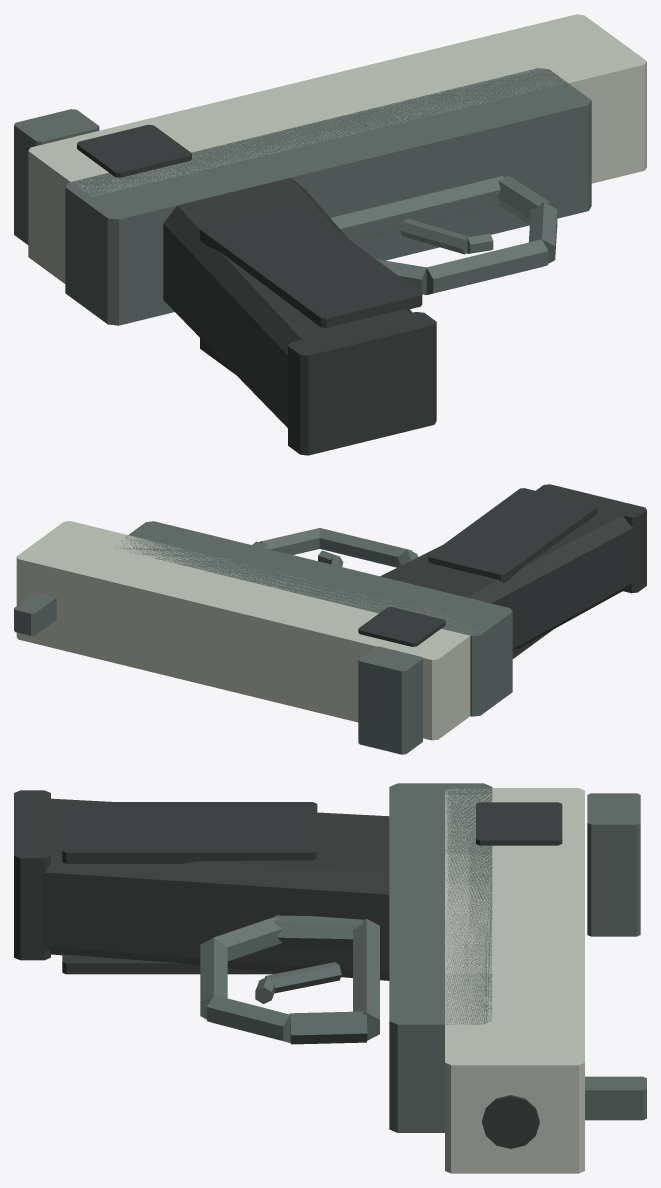
File: weapon-walther-ppks.glb
The picture shows the model from 3 angles, top to bottom: view 1: azimuth 30°, elevation 25°; view 2: azimuth 150°, elevation 25°; view 3: azimuth 270°, elevation 25°; orthographic projection. The views are drawn at different scales.
Visible parts, largest first — view 1: weapon-walther-ppks/lower-frame, weapon-walther-ppks/flat-slide, weapon-walther-ppks/eight-sided-grip, weapon-walther-ppks/eight-sided-grip-heel, weapon-walther-ppks/independent-grip-panels-left, weapon-walther-ppks/hollow-trigger-guard-1, weapon-walther-ppks/slide-rear-serrations-left, weapon-walther-ppks/rear-sight, weapon-walther-ppks/hollow-trigger-guard-4, weapon-walther-ppks/hollow-trigger-guard-2, weapon-walther-ppks/hollow-trigger-guard-trigger-1, weapon-walther-ppks/hollow-trigger-guard-3 (+1 smaller); view 2: weapon-walther-ppks/flat-slide, weapon-walther-ppks/lower-frame, weapon-walther-ppks/eight-sided-grip, weapon-walther-ppks/independent-grip-panels-left, weapon-walther-ppks/rear-sight, weapon-walther-ppks/slide-rear-serrations-left, weapon-walther-ppks/eight-sided-grip-heel, weapon-walther-ppks/hollow-trigger-guard-4, weapon-walther-ppks/front-sight, weapon-walther-ppks/hollow-trigger-guard-3; view 3: weapon-walther-ppks/flat-slide, weapon-walther-ppks/eight-sided-grip, weapon-walther-ppks/lower-frame, weapon-walther-ppks/independent-grip-panels-left, weapon-walther-ppks/rear-sight, weapon-walther-ppks/eight-sided-grip-heel, weapon-walther-ppks/slide-rear-serrations-left, weapon-walther-ppks/front-sight, weapon-walther-ppks/hollow-trigger-guard-1, weapon-walther-ppks/hollow-trigger-guard-2, weapon-walther-ppks/hollow-trigger-guard-6, weapon-walther-ppks/muzzle-dark-disc (+5 smaller).
Boxes of the visible parts, left/top/right/bottom form: weapon-walther-ppks/lower-frame: left=65, top=68, right=591, bottom=325; weapon-walther-ppks/flat-slide: left=28, top=14, right=646, bottom=283; weapon-walther-ppks/eight-sided-grip: left=163, top=178, right=415, bottom=427; weapon-walther-ppks/eight-sided-grip-heel: left=288, top=312, right=436, bottom=455; weapon-walther-ppks/independent-grip-panels-left: left=200, top=204, right=422, bottom=327; weapon-walther-ppks/hollow-trigger-guard-1: left=330, top=176, right=504, bottom=240; weapon-walther-ppks/slide-rear-serrations-left: left=77, top=124, right=191, bottom=177; weapon-walther-ppks/rear-sight: left=14, top=109, right=99, bottom=244; weapon-walther-ppks/hollow-trigger-guard-4: left=426, top=239, right=548, bottom=294; weapon-walther-ppks/hollow-trigger-guard-2: left=497, top=176, right=552, bottom=224; weapon-walther-ppks/hollow-trigger-guard-trigger-1: left=400, top=218, right=469, bottom=254; weapon-walther-ppks/hollow-trigger-guard-3: left=529, top=202, right=557, bottom=263; weapon-walther-ppks/flat-slide: left=16, top=521, right=472, bottom=740; weapon-walther-ppks/lower-frame: left=116, top=521, right=512, bottom=716; weapon-walther-ppks/eight-sided-grip: left=380, top=491, right=633, bottom=650; weapon-walther-ppks/independent-grip-panels-left: left=428, top=488, right=596, bottom=582; weapon-walther-ppks/rear-sight: left=358, top=646, right=422, bottom=754; weapon-walther-ppks/slide-rear-serrations-left: left=358, top=607, right=445, bottom=646; weapon-walther-ppks/eight-sided-grip-heel: left=536, top=484, right=646, bottom=593; weapon-walther-ppks/hollow-trigger-guard-4: left=319, top=528, right=411, bottom=567; weapon-walther-ppks/front-sight: left=14, top=592, right=56, bottom=635; weapon-walther-ppks/hollow-trigger-guard-3: left=259, top=528, right=319, bottom=554; weapon-walther-ppks/flat-slide: left=445, top=788, right=584, bottom=1173; weapon-walther-ppks/eight-sided-grip: left=32, top=797, right=389, bottom=980; weapon-walther-ppks/lower-frame: left=389, top=783, right=492, bottom=1132; weapon-walther-ppks/independent-grip-panels-left: left=62, top=802, right=317, bottom=863; weapon-walther-ppks/rear-sight: left=587, top=793, right=640, bottom=936; weapon-walther-ppks/eight-sided-grip-heel: left=14, top=790, right=50, bottom=960; weapon-walther-ppks/slide-rear-serrations-left: left=476, top=802, right=562, bottom=845; weapon-walther-ppks/front-sight: left=585, top=1076, right=646, bottom=1120; weapon-walther-ppks/hollow-trigger-guard-1: left=353, top=918, right=379, bottom=1040; weapon-walther-ppks/hollow-trigger-guard-2: left=289, top=1011, right=367, bottom=1044; weapon-walther-ppks/hollow-trigger-guard-6: left=274, top=915, right=363, bottom=948; weapon-walther-ppks/muzzle-dark-disc: left=482, top=1095, right=539, bottom=1148.
Size of the model in its own units: 0.1637 by 0.0326 by 0.1535.
Materials: 3 (3 with a texture image).
